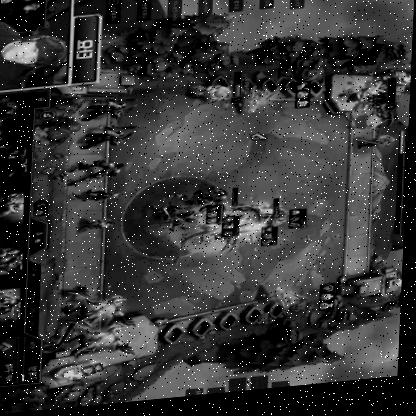streamer: (0, 9, 70, 78)
